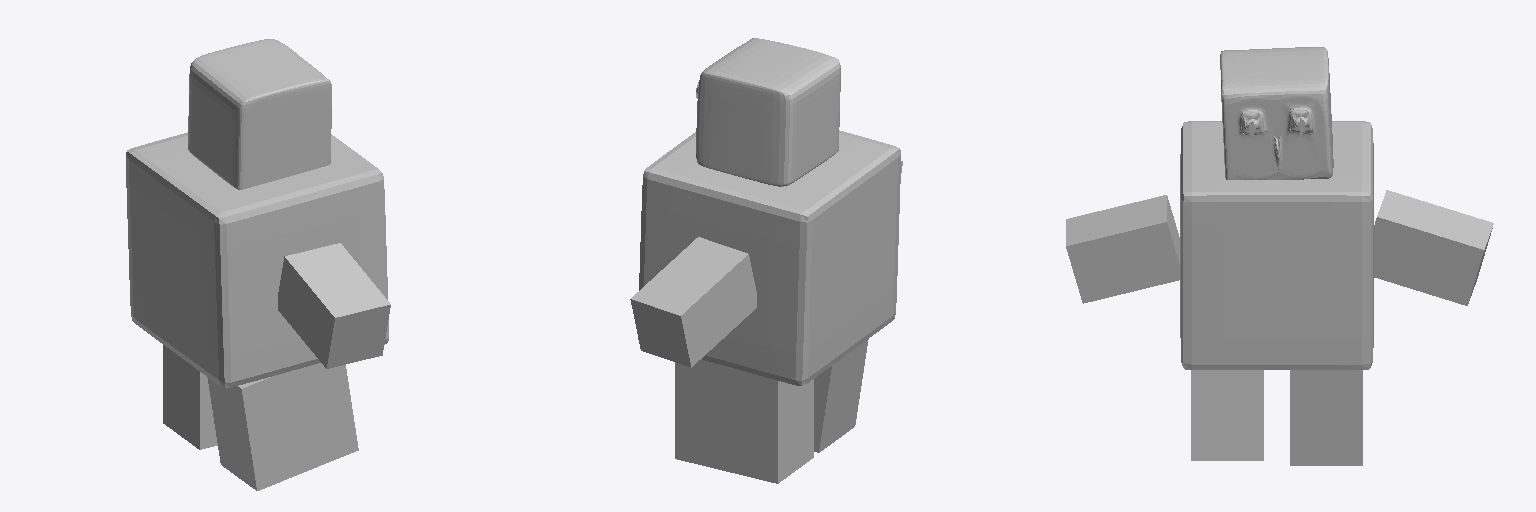
The picture shows the model from 3 angles: view 1: azimuth 30°, elevation 25°; view 2: azimuth 150°, elevation 25°; view 3: azimuth 270°, elevation 25°; orthographic projection.
Visible parts, largest first — view 1: Cube_Cube.001, Cube.001_Cube.002, Cube.002_Cube.003, Cube.005_Cube.007, Cube.003_Cube.004; view 2: Cube_Cube.001, Cube.001_Cube.002, Cube.003_Cube.004, Cube.004_Cube.005, Cube.002_Cube.003; view 3: Cube_Cube.001, Cube.001_Cube.002, Cube.004_Cube.005, Cube.005_Cube.007, Cube.003_Cube.004, Cube.002_Cube.003.
Boxes of the visible parts, x1=… form: Cube_Cube.001: x1=126, y1=132, x2=388, y2=387; Cube.001_Cube.002: x1=188, y1=39, x2=331, y2=189; Cube.002_Cube.003: x1=207, y1=363, x2=358, y2=490; Cube.005_Cube.007: x1=278, y1=243, x2=390, y2=368; Cube.003_Cube.004: x1=163, y1=345, x2=217, y2=449; Cube_Cube.001: x1=638, y1=130, x2=900, y2=385; Cube.001_Cube.002: x1=696, y1=38, x2=840, y2=186; Cube.003_Cube.004: x1=675, y1=359, x2=813, y2=483; Cube.004_Cube.005: x1=630, y1=237, x2=756, y2=367; Cube.002_Cube.003: x1=814, y1=339, x2=868, y2=452; Cube_Cube.001: x1=1180, y1=121, x2=1373, y2=369; Cube.001_Cube.002: x1=1220, y1=47, x2=1333, y2=179; Cube.004_Cube.005: x1=1374, y1=190, x2=1493, y2=305; Cube.005_Cube.007: x1=1066, y1=195, x2=1179, y2=303; Cube.003_Cube.004: x1=1290, y1=370, x2=1362, y2=465; Cube.002_Cube.003: x1=1191, y1=370, x2=1263, y2=460.
Size of the model in its own units: 1.5 by 3.2 by 3.23.